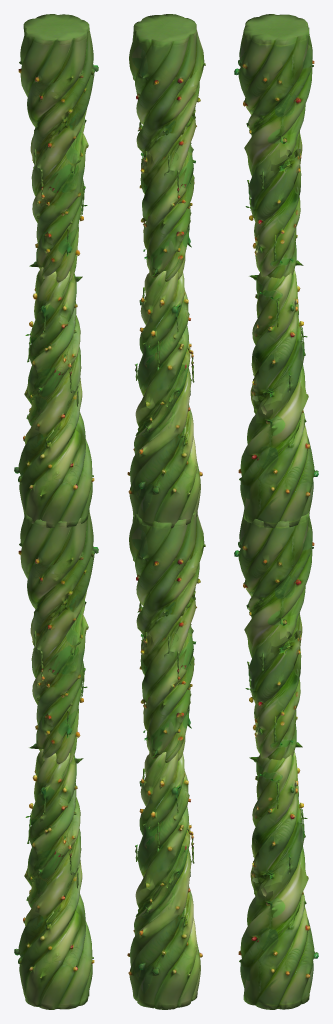
Rendered from bean.glb.
The picture shows the model from 3 angles, left to right: view 1: azimuth 90°, elevation 25°; view 2: azimuth 150°, elevation 25°; view 3: azimuth 270°, elevation 25°; orthographic projection.
Parts seen in each view (by area): view 1: Mesh_0.002, Mesh_0, Mesh_0.003, Mesh_0.001; view 2: Mesh_0.002, Mesh_0, Mesh_0.003, Mesh_0.001; view 3: Mesh_0.002, Mesh_0, Mesh_0.003, Mesh_0.001.
Boxes of the visible parts, x1,y1,x2,y2 form: Mesh_0.002: (18,14,98,282); Mesh_0: (14,749,94,1009); Mesh_0.003: (14,267,94,528); Mesh_0.001: (18,510,98,764); Mesh_0.002: (129,14,205,281); Mesh_0: (127,752,202,1009); Mesh_0.003: (127,270,202,528); Mesh_0.001: (129,512,205,762); Mesh_0.002: (234,14,314,278); Mesh_0: (238,751,318,1009); Mesh_0.003: (238,269,318,528); Mesh_0.001: (234,512,314,760).
Bounding box in the file's own units: 1.85 × 26.37 × 2.1.
Materials: 4 (4 with a texture image).
